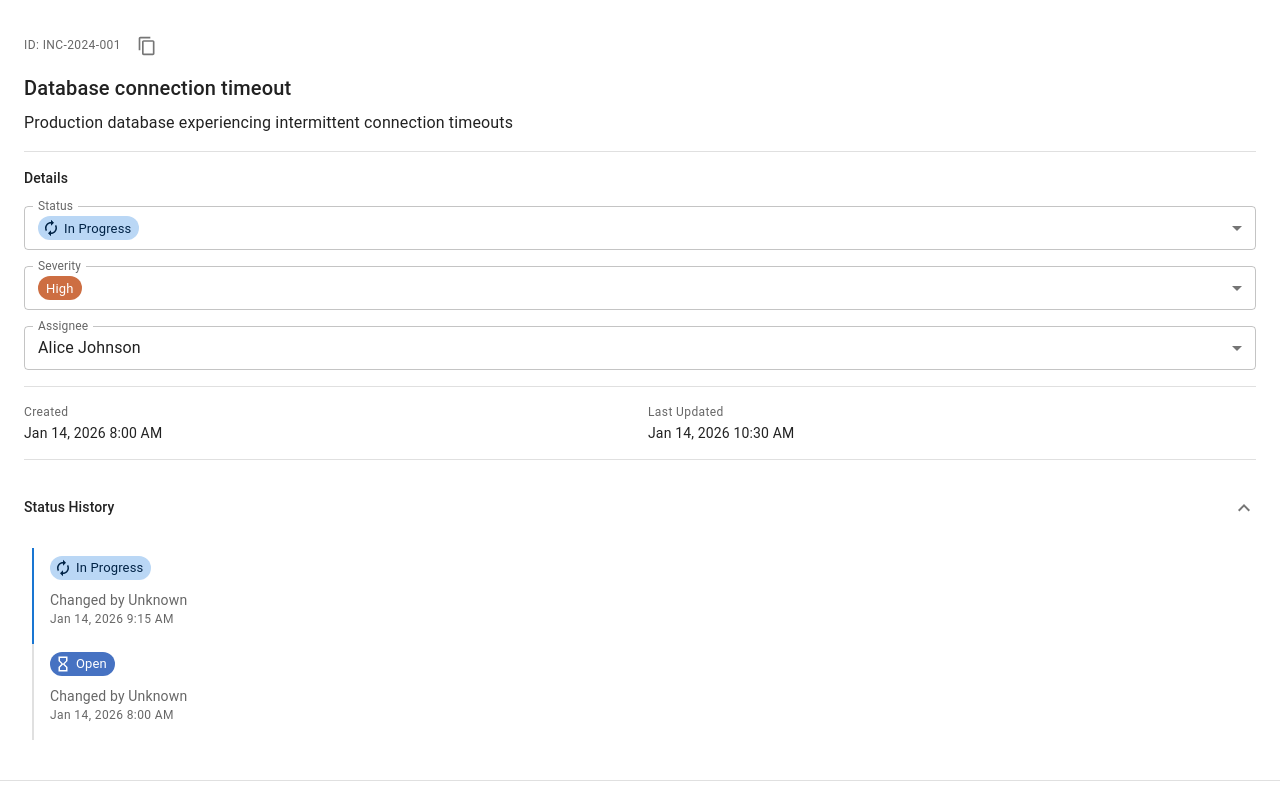
it: Detail Panel UX Integration Tests › User Story 3: Chips Displayed in Select Dropdowns › displays status chip in dropdown menu
The image size is (1280, 797).
Click the dropdown named "status" at {"x": 89, "y": 228}, box [38,216,139,240]
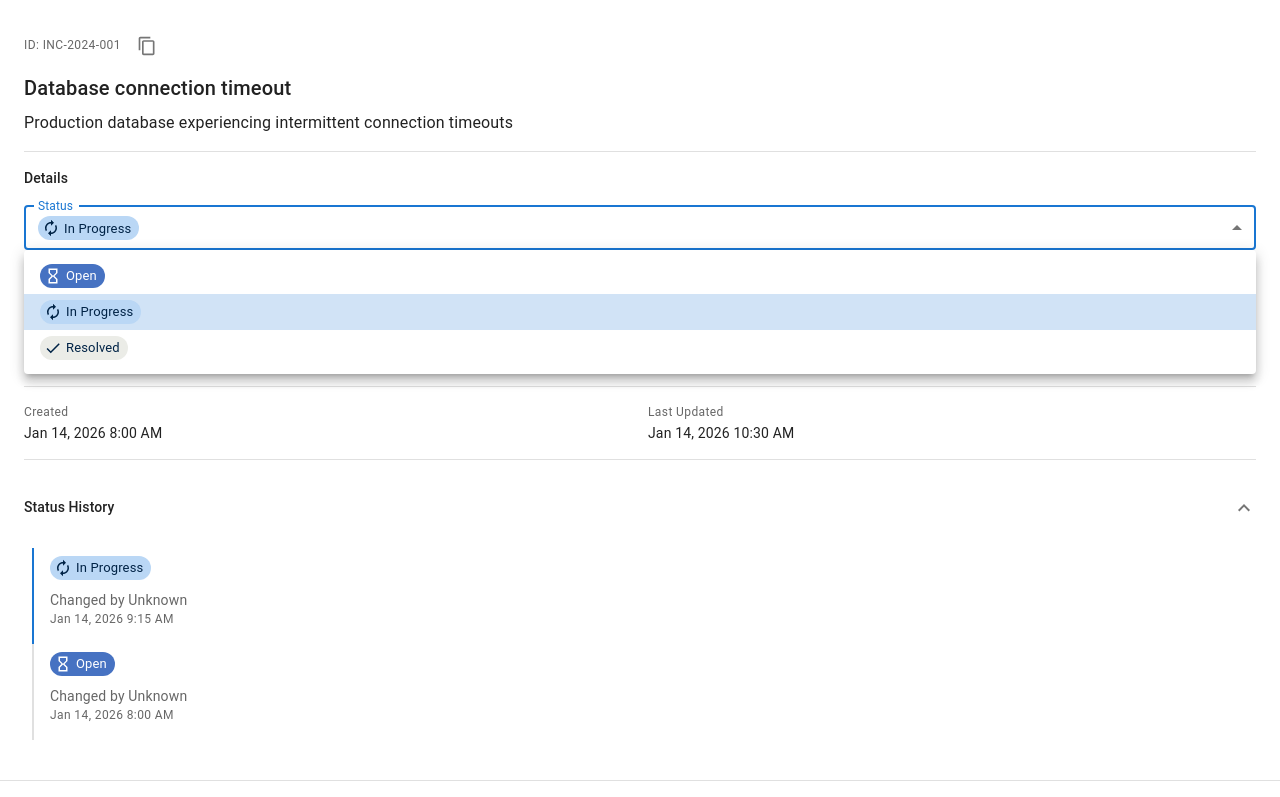
Check: the number of options is 3, box [40,264,105,288]; [24,294,1256,330]; [40,336,128,360]
Check: the option "Open" is shown, box [40,264,105,288]
Check: the option "In Progress" is shown, box [24,294,1256,330]
